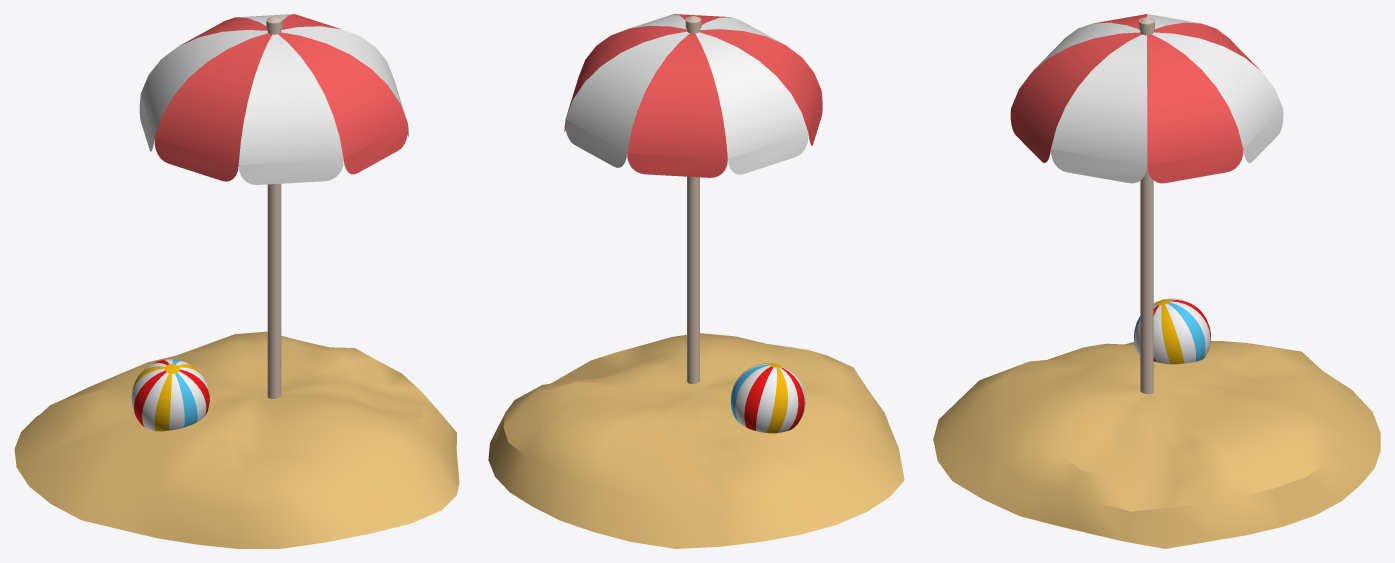
File: outElement4.glb
3 renders of one model, left to right at view 1: azimuth 30°, elevation 25°; view 2: azimuth 150°, elevation 25°; view 3: azimuth 270°, elevation 25°, orthographic. The views are drawn at different scales.
Visible parts, largest first — view 1: Sphere, Cube.005, Sphere.001; view 2: Sphere, Cube.005, Sphere.001; view 3: Sphere, Cube.005, Sphere.001.
Part boxes in pixels (bbox=[...]): Sphere: bbox=[14, 331, 459, 548]; Cube.005: bbox=[139, 14, 408, 398]; Sphere.001: bbox=[131, 359, 209, 431]; Sphere: bbox=[488, 333, 904, 548]; Cube.005: bbox=[564, 14, 822, 383]; Sphere.001: bbox=[730, 363, 805, 433]; Sphere: bbox=[933, 341, 1380, 548]; Cube.005: bbox=[1010, 14, 1283, 394]; Sphere.001: bbox=[1134, 298, 1210, 364].
Bounding box in the file's own units: 7.85 × 8.78 × 7.94.
